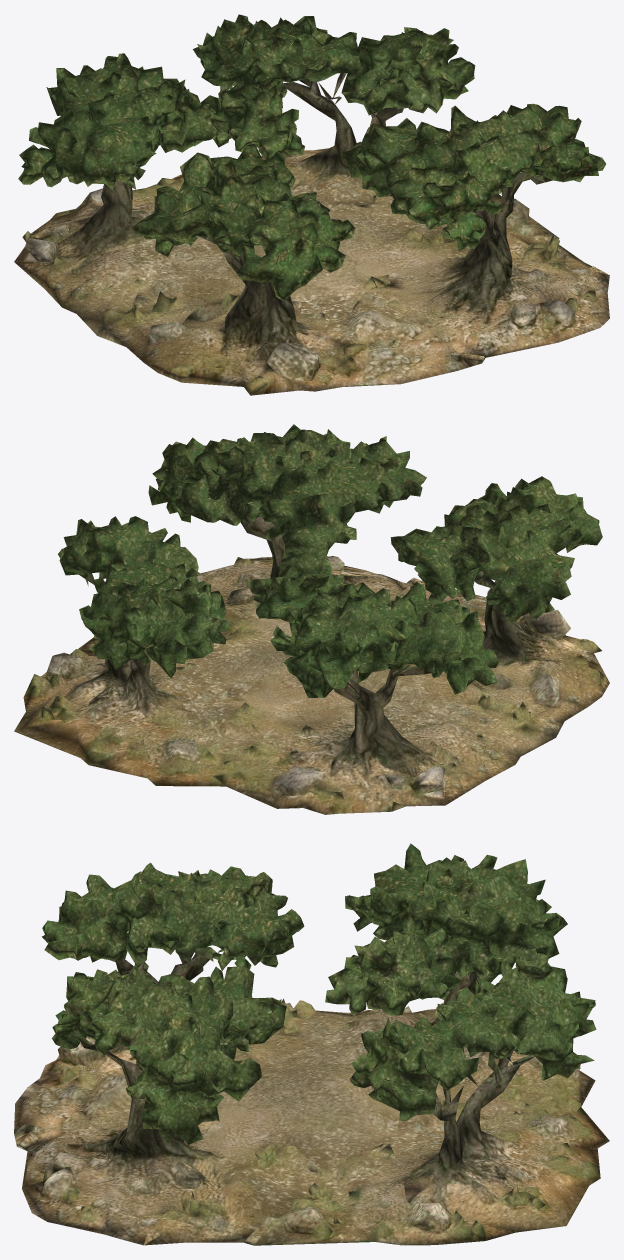
The model's file is kit_olive_grove.glb.
The picture shows the model from 3 angles, top to bottom: view 1: azimuth 30°, elevation 25°; view 2: azimuth 150°, elevation 25°; view 3: azimuth 270°, elevation 25°; orthographic projection. The views are drawn at different scales.
Visible parts, largest first — view 1: Mesh1.0; view 2: Mesh1.0; view 3: Mesh1.0.
Part boxes in pixels (x1,y1,x2,y2): Mesh1.0: (14, 14, 609, 395); Mesh1.0: (14, 424, 609, 814); Mesh1.0: (14, 843, 609, 1245).
Bounding box in the file's own units: 10.73 × 4 × 11.05.
1 material, 1 textured.
